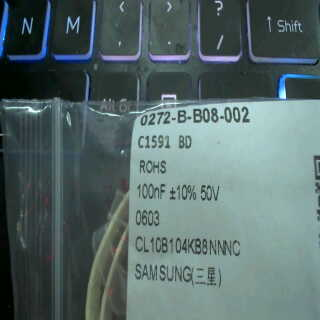100nF: (136, 178, 167, 202)
